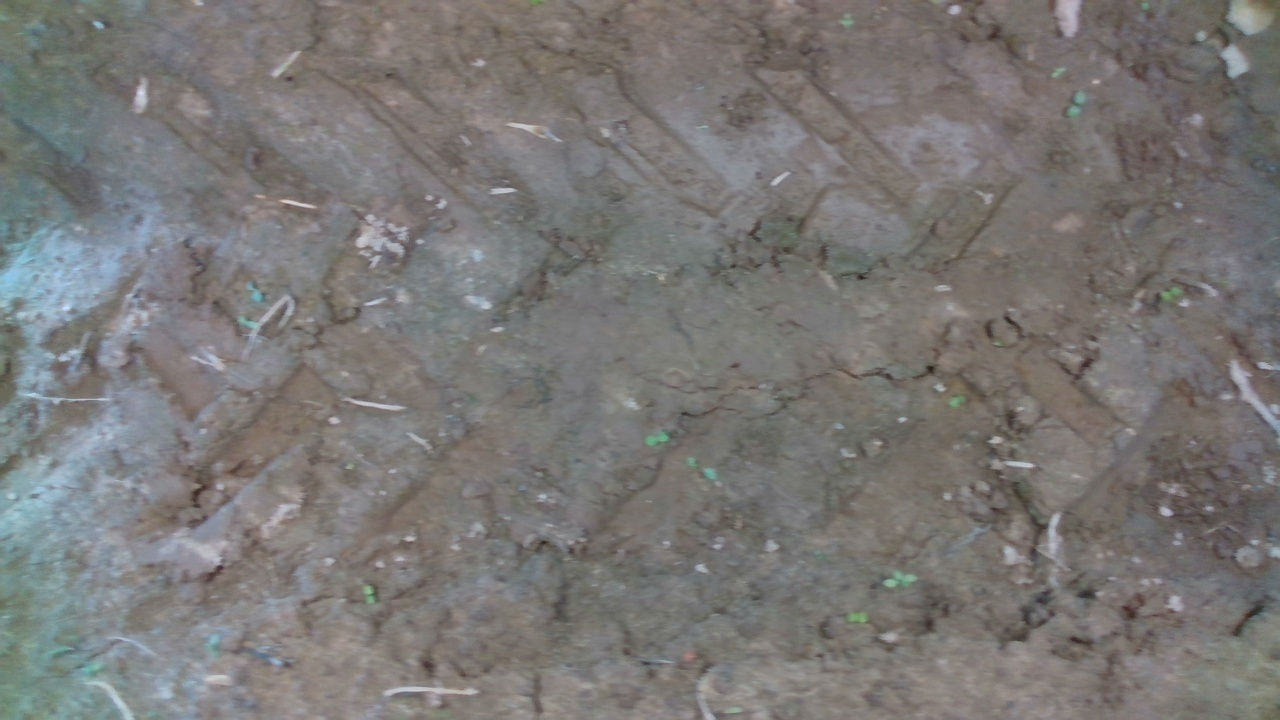weed: (880, 567, 920, 591), (1065, 89, 1086, 120), (1157, 283, 1185, 301), (643, 430, 670, 447), (362, 583, 377, 606)
